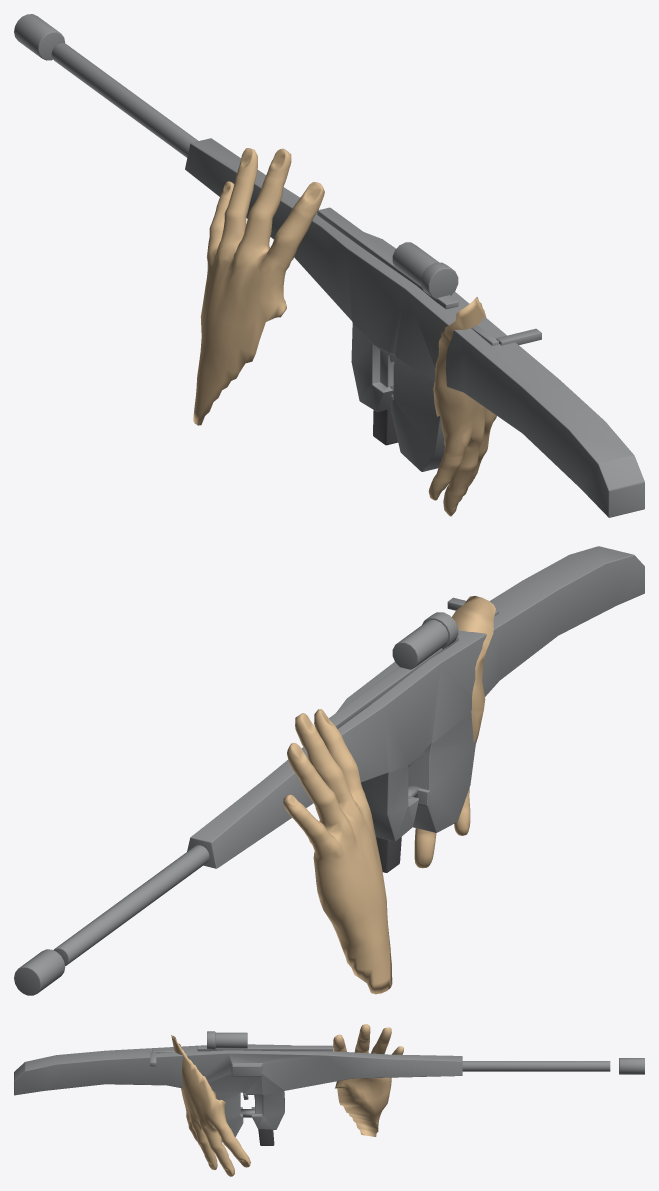
File: grip_unposed.glb
The picture shows the model from 3 angles, top to bottom: view 1: azimuth 30°, elevation 25°; view 2: azimuth 150°, elevation 25°; view 3: azimuth 270°, elevation 25°; orthographic projection. The views are drawn at different scales.
Visible parts, largest first — view 1: kf16_metal, LHand, RHand, Magazine; view 2: kf16_metal, LHand, RHand, Magazine; view 3: kf16_metal, RHand, LHand, Magazine.
Part boxes in pixels (x1,y1,x2,y2): kf16_metal: (14,14,644,517); LHand: (193,148,324,425); RHand: (428,297,496,516); Magazine: (373,354,398,445); kf16_metal: (14,546,644,995); LHand: (283,709,392,994); RHand: (414,596,495,868); Magazine: (376,837,401,872); kf16_metal: (14,1031,644,1142); RHand: (171,1035,250,1176); LHand: (333,1024,403,1136); Magazine: (254,1095,274,1145).
Bounding box in the file's own units: 0.1703 × 0.2505 × 1.02.
